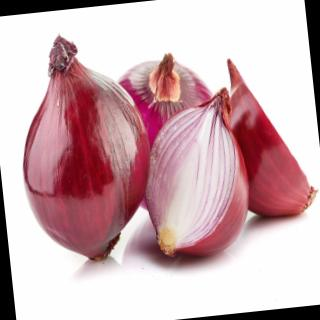Bawang Merah: (9, 26, 162, 269), (135, 85, 256, 263), (222, 51, 320, 223), (114, 48, 220, 154)
